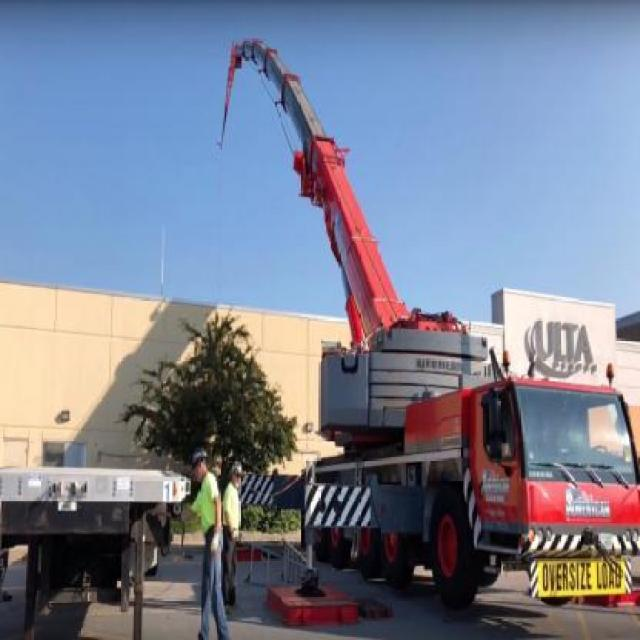Mobile Crane: (218, 34, 640, 611)
